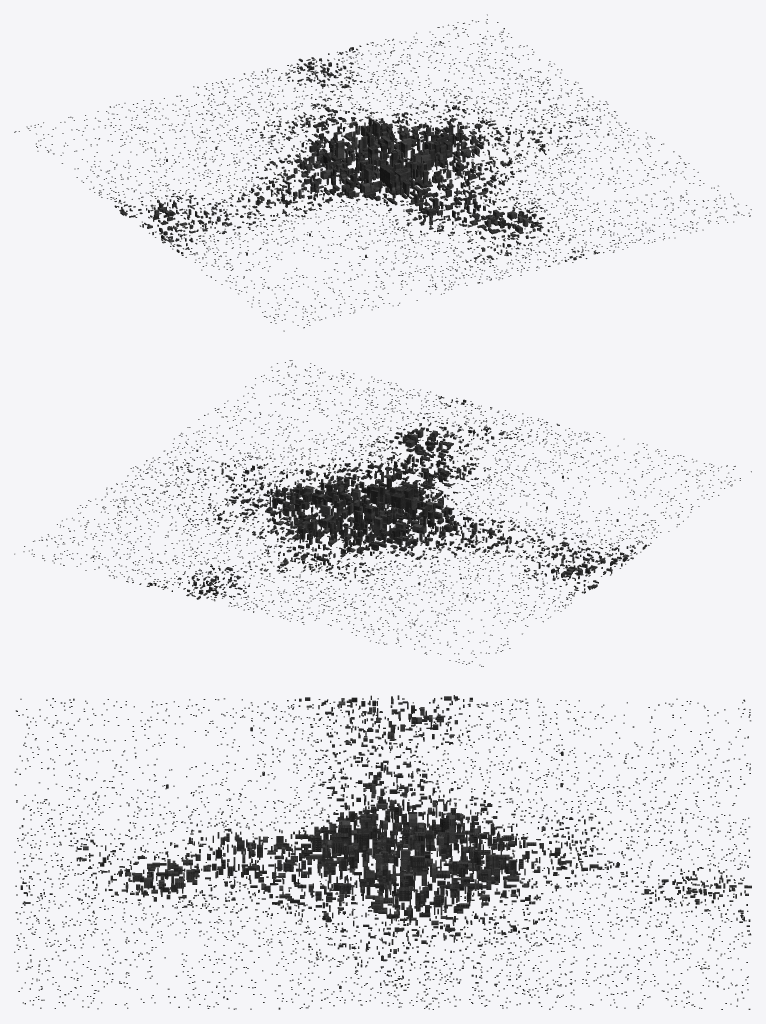
The picture shows the model from 3 angles, top to bottom: view 1: azimuth 30°, elevation 25°; view 2: azimuth 150°, elevation 25°; view 3: azimuth 270°, elevation 25°; orthographic projection. The views are drawn at different scales.
Parts seen in each view (by area): view 1: Scatter city_SC low-poly building facade_0.013, Scatter city_SC low-poly building facade_0.014, Scatter city_SC low-poly building facade_0.012; view 2: Scatter city_SC low-poly building facade_0.013, Scatter city_SC low-poly building facade_0.014, Scatter city_SC low-poly building facade_0.012; view 3: Scatter city_SC low-poly building facade_0.013, Scatter city_SC low-poly building facade_0.014, Scatter city_SC low-poly building facade_0.012.
Boxes of the visible parts, <box> form: Scatter city_SC low-poly building facade_0.013: <box>15,14,751,328</box>; Scatter city_SC low-poly building facade_0.014: <box>27,21,750,325</box>; Scatter city_SC low-poly building facade_0.012: <box>14,21,749,331</box>; Scatter city_SC low-poly building facade_0.013: <box>14,360,735,666</box>; Scatter city_SC low-poly building facade_0.014: <box>31,360,740,663</box>; Scatter city_SC low-poly building facade_0.012: <box>32,362,751,666</box>; Scatter city_SC low-poly building facade_0.013: <box>14,695,750,1009</box>; Scatter city_SC low-poly building facade_0.014: <box>16,695,751,1009</box>; Scatter city_SC low-poly building facade_0.012: <box>14,698,751,1009</box>.
Size of the model in its own units: 50.16 by 2.27 by 50.15.
1 material, 1 textured.
